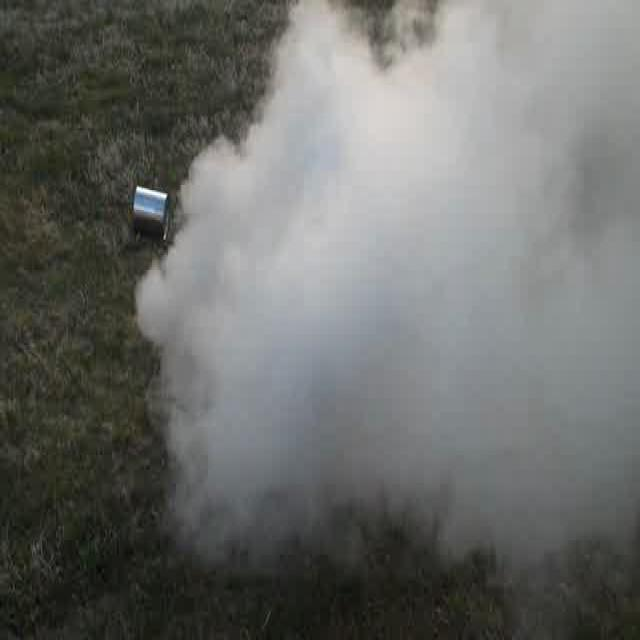Smoke: (176, 6, 636, 576)
